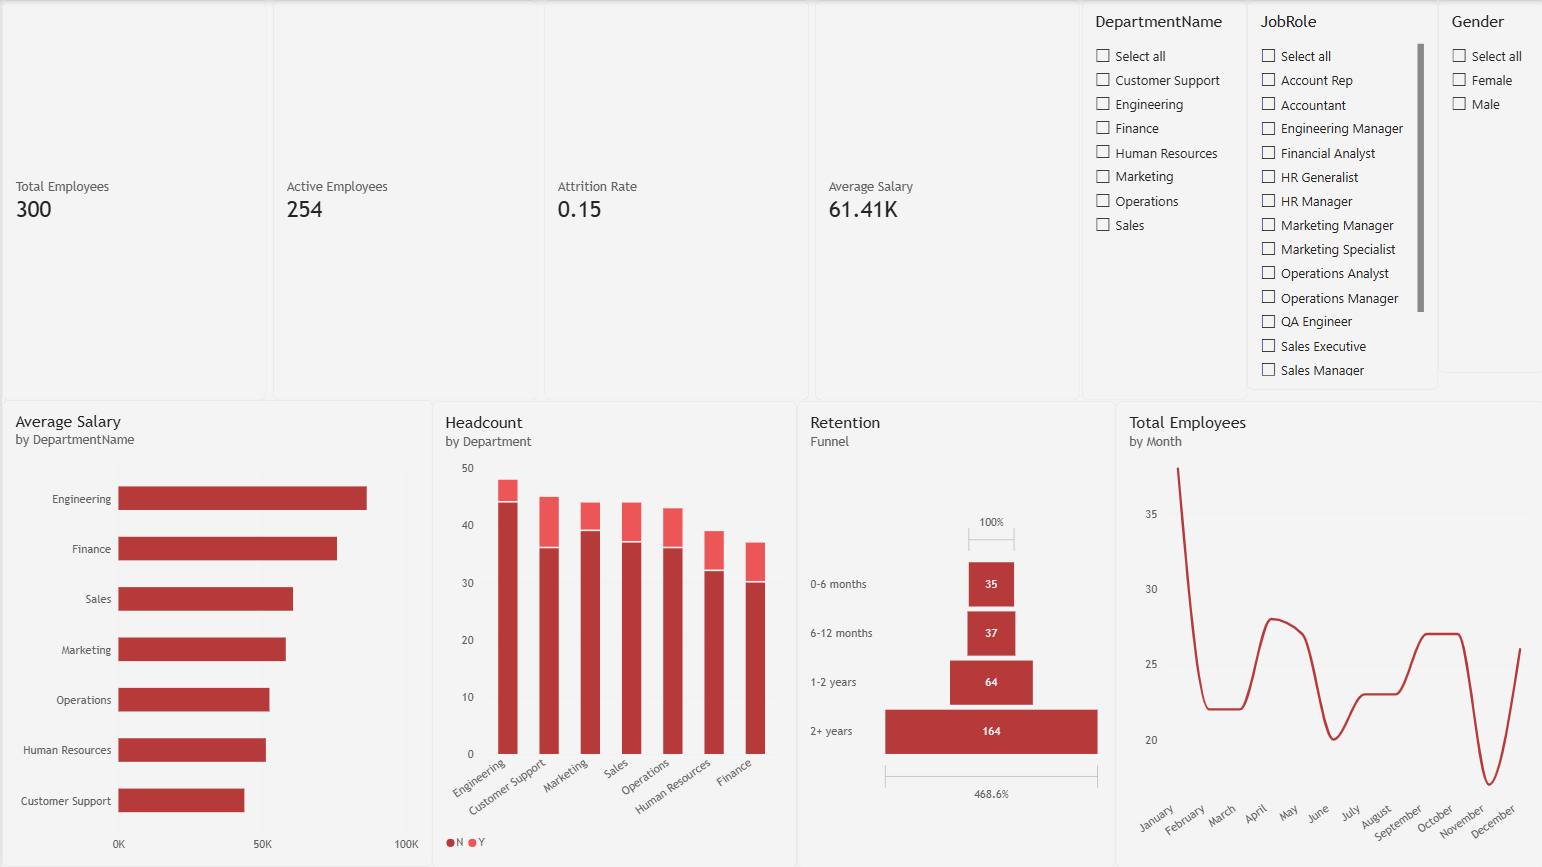

This screenshot's page, from the dashboard's own definition file:
{"tool":"powerbi","page":{"name":"Page 1","canvas":[1920,1080],"ordinal":0},"visuals":[{"type":"cardVisual","fields":{"Data":["Employees.Total Employees","Employees.Active Employees","Employees.Attrition Rate","Employees.Average Salary"]},"box":[0,0,1343,499],"z":0},{"type":"clusteredBarChart","fields":{"Category":["Departments.DepartmentName"],"Y":["Employees.Average Salary"]},"box":[0,497.5,535.5,580.8],"z":1000},{"type":"columnChart","title":"Headcount","fields":{"Category":["Departments.DepartmentName"],"Series":["Employees.AttritionFlag"],"Y":["Employees.Total Employees"]},"box":[535.5,498.8,453.5,580.8],"z":2000},{"type":"lineChart","fields":{"Category":["Employees.HireDate.Variation.Date Hierarchy.Month"],"Y":["Employees.Total Employees"]},"box":[1384.9,498.8,535.5,580.8],"z":3000},{"type":"funnel","title":"Retention","fields":{"Category":["Employees.TenureBucket"],"Y":["Employees.Total Employees"]},"box":[989,498.8,395.9,580.8],"z":4000},{"type":"listSlicer","fields":{"Values":["Departments.DepartmentName"]},"box":[1343,0,205.2,497.4],"z":5000},{"type":"listSlicer","fields":{"Values":["Employees.Gender"]},"box":[1786,0,133.7,463.2],"z":6000},{"type":"listSlicer","fields":{"Values":["Employees.JobRole"]},"box":[1548.2,0,237.8,485],"z":7000}]}

Visuals, with their boxes in screenshot pixels (x1, y1, x2, y2), scaled from the page's 1920x1080 canvas onto the 1542x867 screenshot:
cardVisual - Employees.Total Employees x Employees.Active Employees: locate(0, 0, 1079, 401)
clusteredBarChart - Departments.DepartmentName x Employees.Average Salary: locate(0, 399, 430, 866)
"Headcount" columnChart: locate(430, 400, 794, 866)
lineChart - Employees.HireDate.Variation.Date Hierarchy.Month x Employees.Total Employees: locate(1112, 400, 1541, 866)
"Retention" funnel: locate(794, 400, 1112, 866)
listSlicer - Departments.DepartmentName: locate(1079, 0, 1243, 399)
listSlicer - Employees.Gender: locate(1434, 0, 1541, 372)
listSlicer - Employees.JobRole: locate(1243, 0, 1434, 389)
